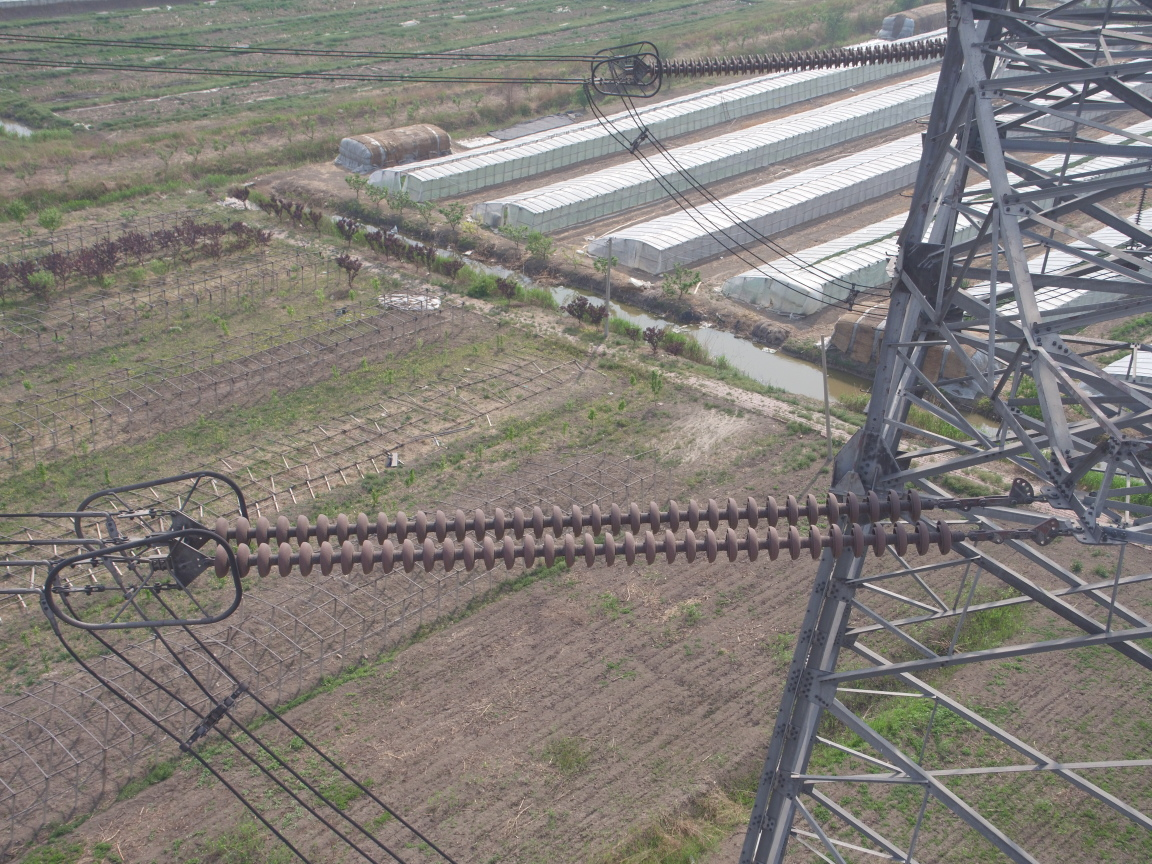insulator: (200, 482, 1001, 581), (645, 35, 947, 81)
